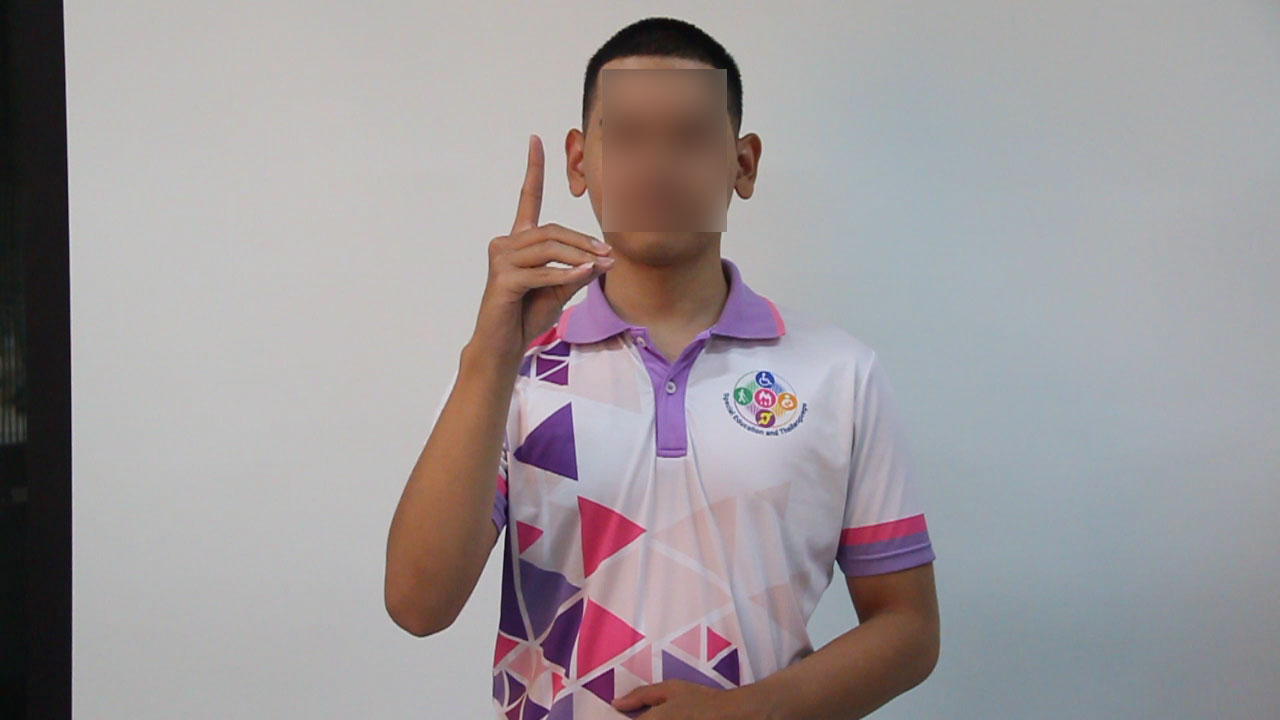dor: (470, 125, 621, 353)
